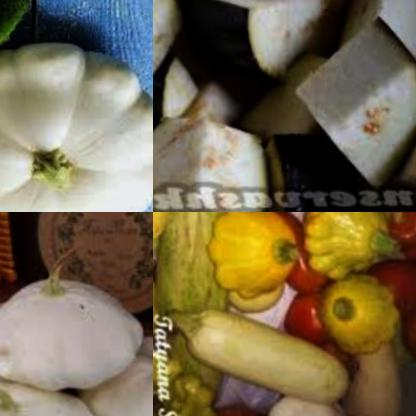eggplant: (153, 0, 416, 212)
squash-patisson: (0, 37, 153, 212), (0, 267, 146, 389), (204, 212, 315, 297), (304, 266, 398, 361), (71, 331, 153, 416), (300, 212, 398, 281), (153, 349, 218, 416), (153, 264, 182, 377), (253, 391, 349, 416)
tomato: (387, 248, 416, 307), (399, 288, 416, 379), (384, 212, 416, 260), (190, 401, 267, 416)
vegetable marrow: (158, 298, 368, 414), (346, 343, 413, 416)
